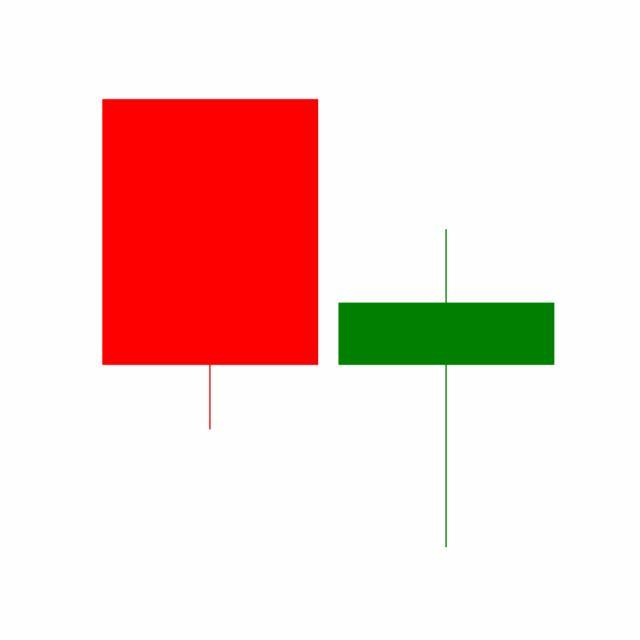Spinning Top: (328, 226, 566, 552)
